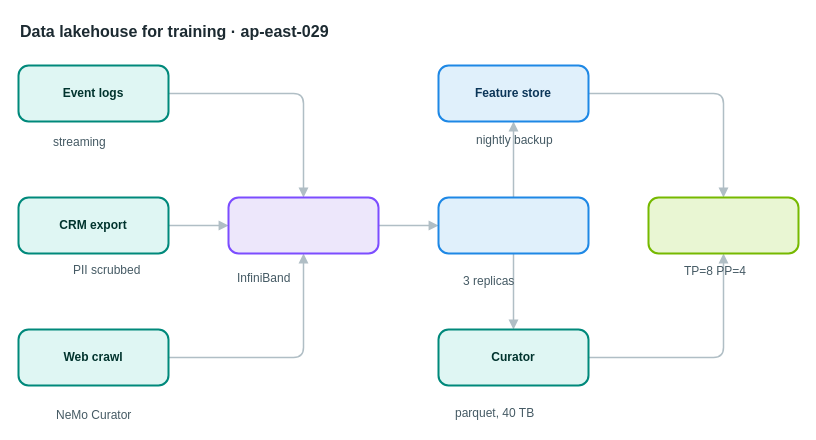
Some shapes in this 816 by 440 pixel diagram are drawn without their labels. The centre of each missing label's shape, as x and y in pixels:
"Lakehouse" belongs at [513,225].
"Stream bus" belongs at [303,225].
"Training jobs" belongs at [723,225].
